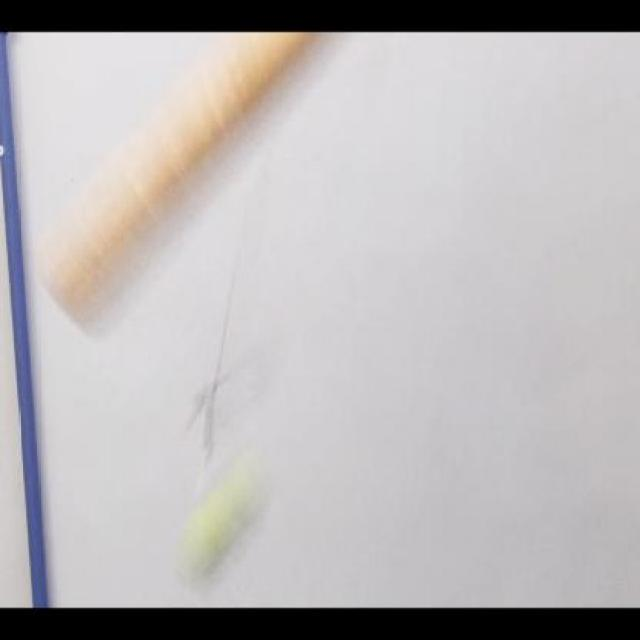baseball: (204, 447, 238, 590)
